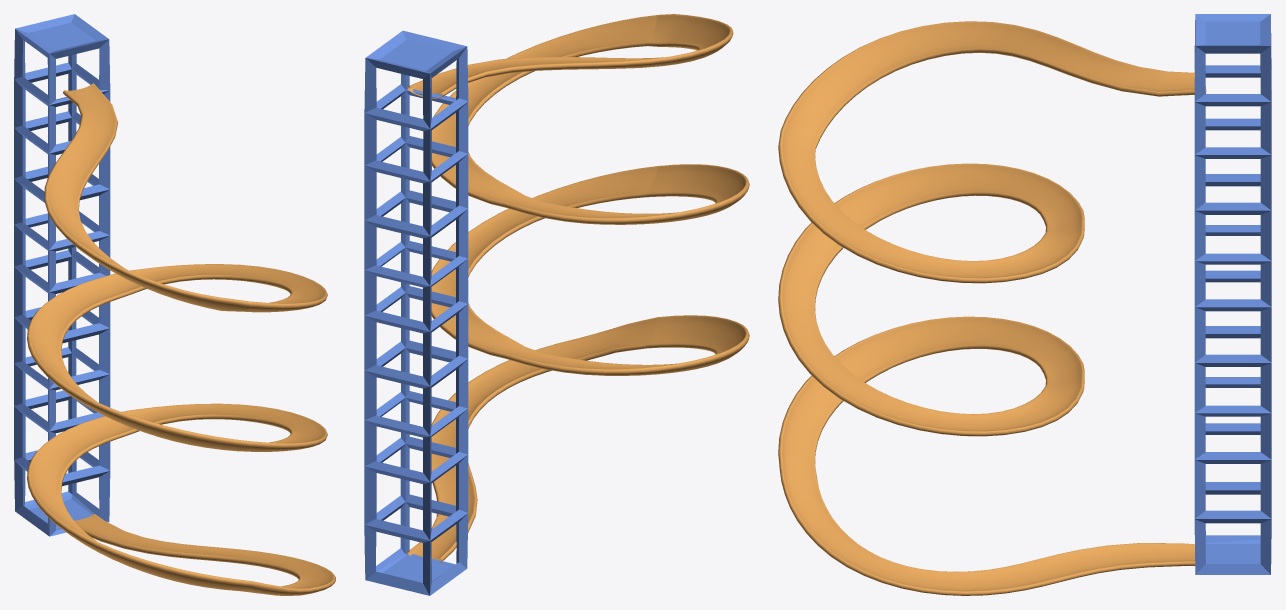
The model's file is road_3.fbx.
3 renders of one model, left to right at view 1: azimuth 30°, elevation 25°; view 2: azimuth 150°, elevation 25°; view 3: azimuth 270°, elevation 25°, orthographic. The views are drawn at different scales.
Parts seen in each view (by area): view 1: road_3, elevator_3; view 2: elevator_3, road_3; view 3: road_3, elevator_3.
Boxes of the visible parts, left/top/right/bottom form: road_3: left=27, top=83, right=335, bottom=595; elevator_3: left=14, top=14, right=110, bottom=536; elevator_3: left=364, top=30, right=468, bottom=595; road_3: left=407, top=14, right=749, bottom=563; road_3: left=778, top=21, right=1206, bottom=595; elevator_3: left=1194, top=14, right=1271, bottom=574.
Size of the model in its own units: 3686 by 6329 by 5351.
